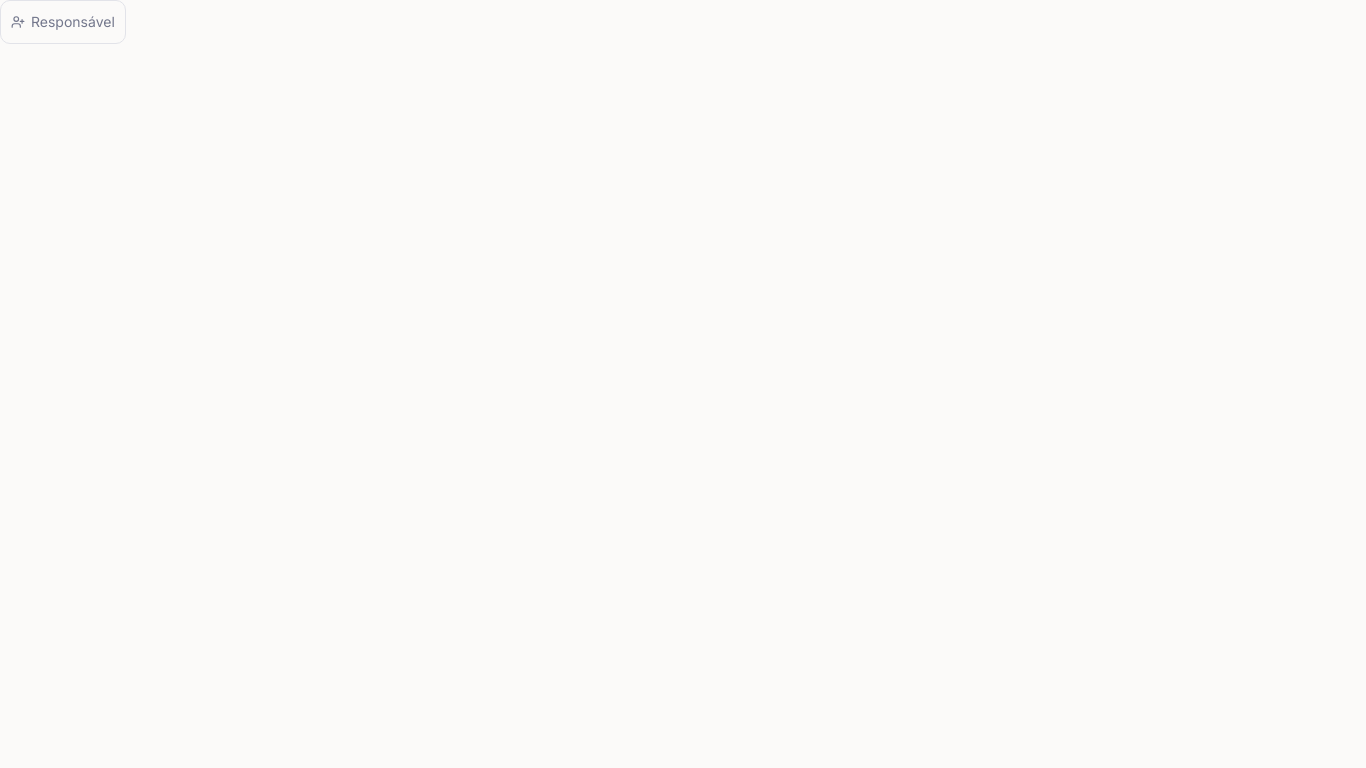
Test: AssigneeChip › waits for assignment persistence before accepting another change
Later steps or results of the test are not shown.
Click the button with aria-label "Responsável: Responsável".
click(63, 22)  # box [0,0,126,44]
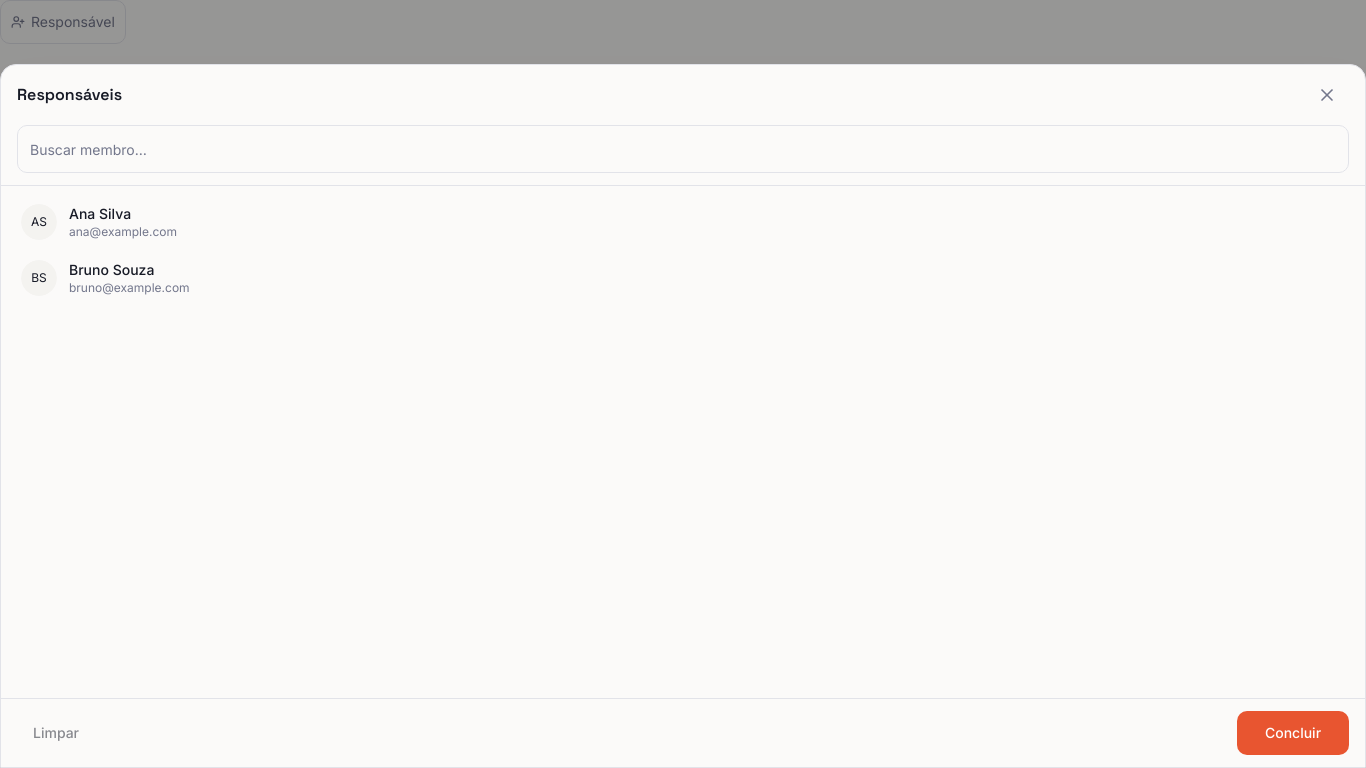
Click the button "AS Ana Silva ana@example.com".
click(39, 222)  # box [9,194,1357,250]
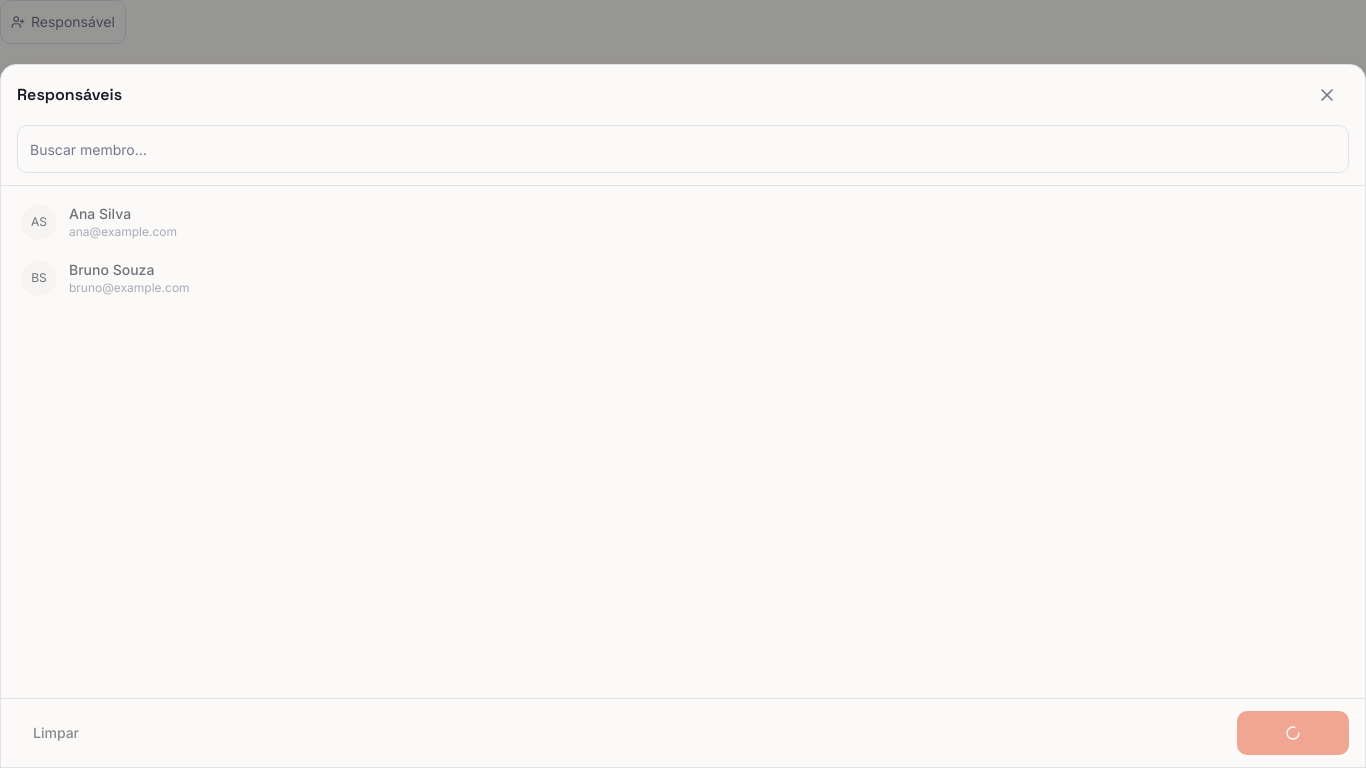
Click the button "BS Bruno Souza bruno@example.com".
click(39, 278)  # box [9,250,1357,306]
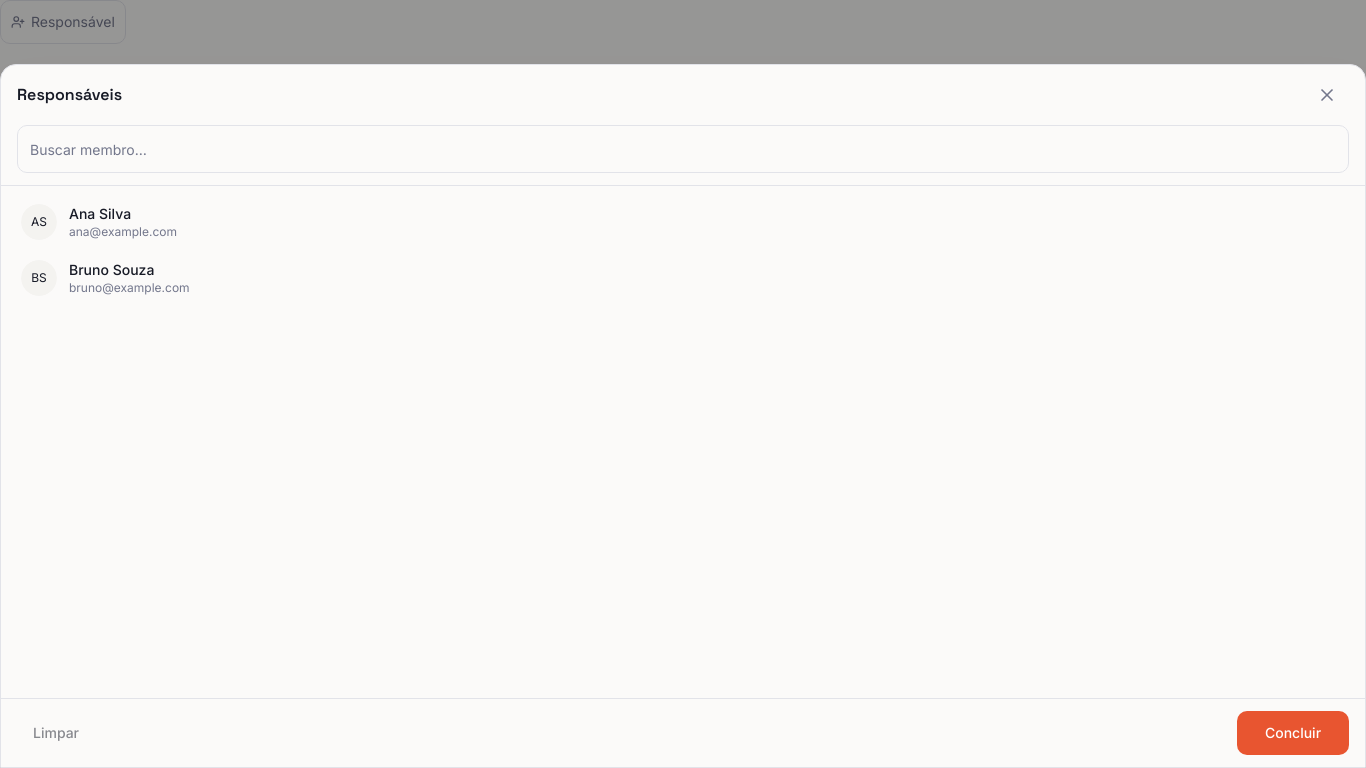
Expected: the button "BS Bruno Souza bruno@example.com" is enabled, [9,250,1357,306]
